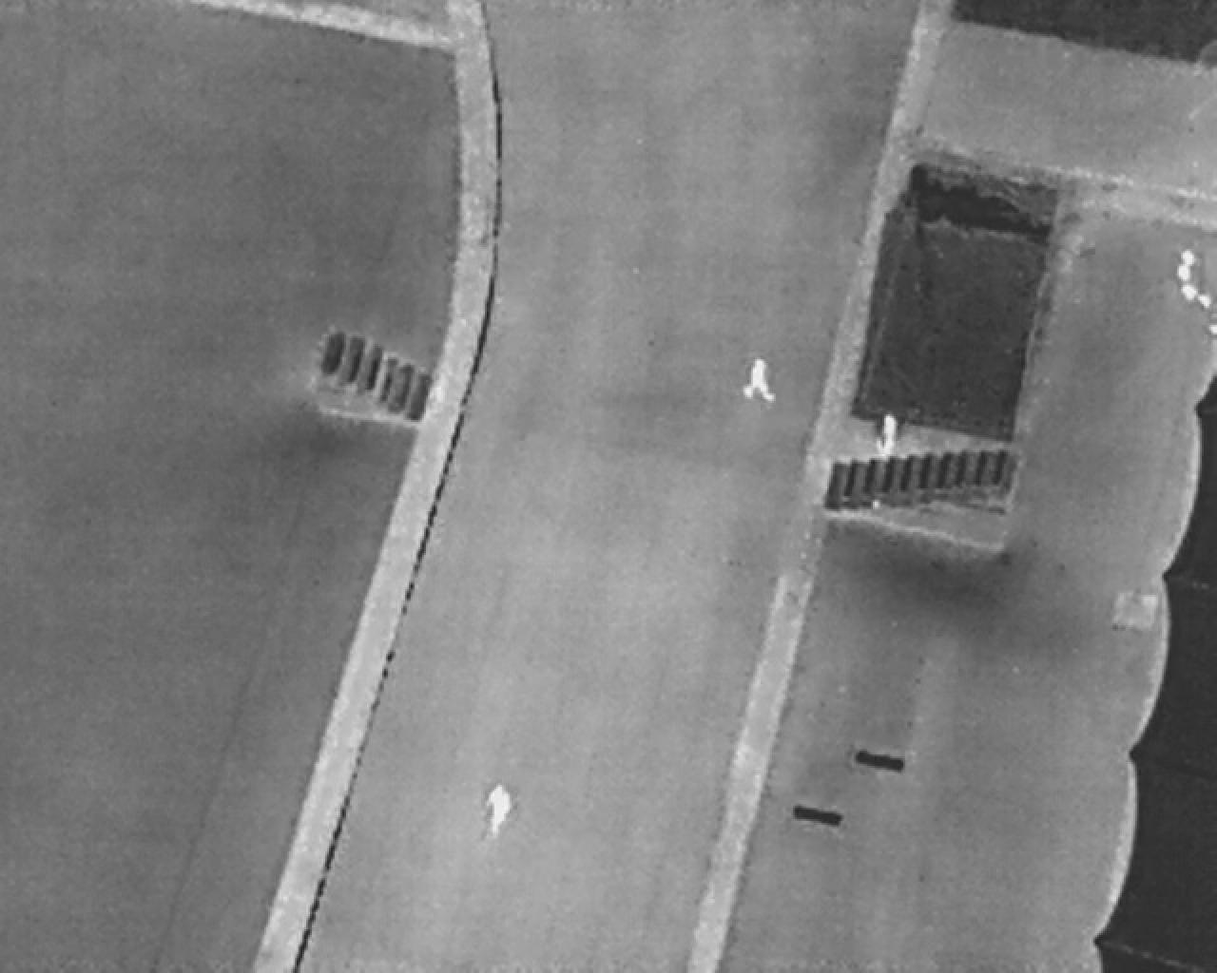person: (480, 778, 516, 845), (743, 356, 773, 406), (879, 415, 900, 461)
